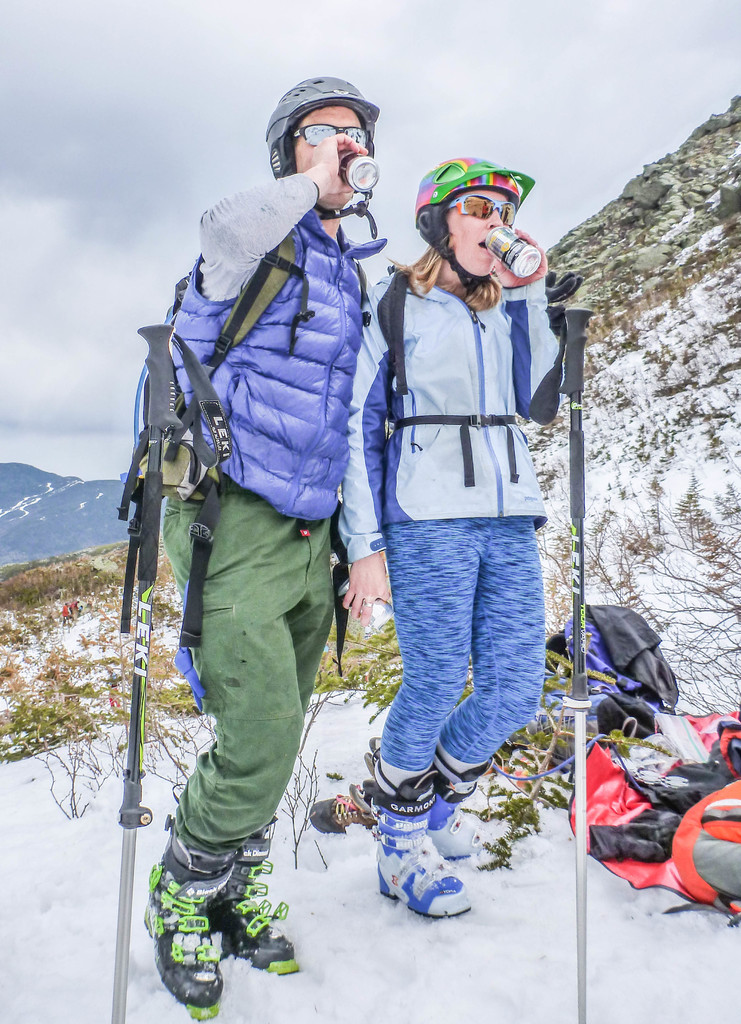Footwear: (144, 829, 240, 1006), (371, 767, 466, 922), (199, 826, 291, 968), (429, 755, 476, 861)
